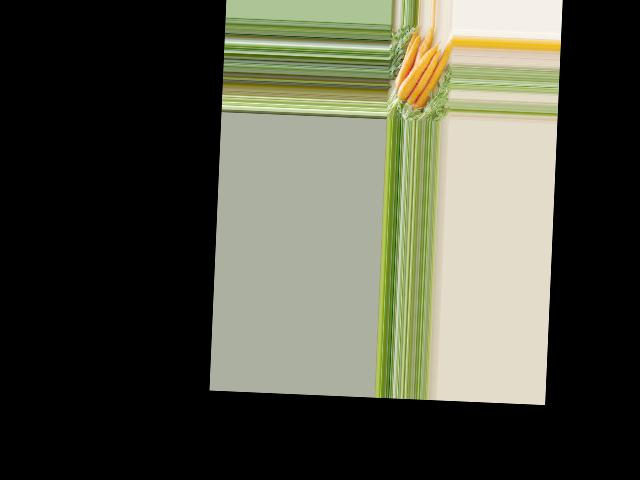carrot: (412, 35, 454, 115)
